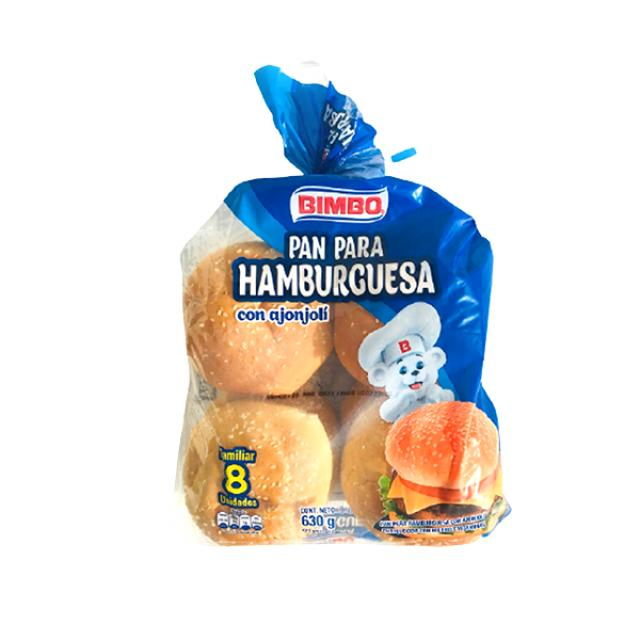Paquete: (172, 70, 518, 549)
